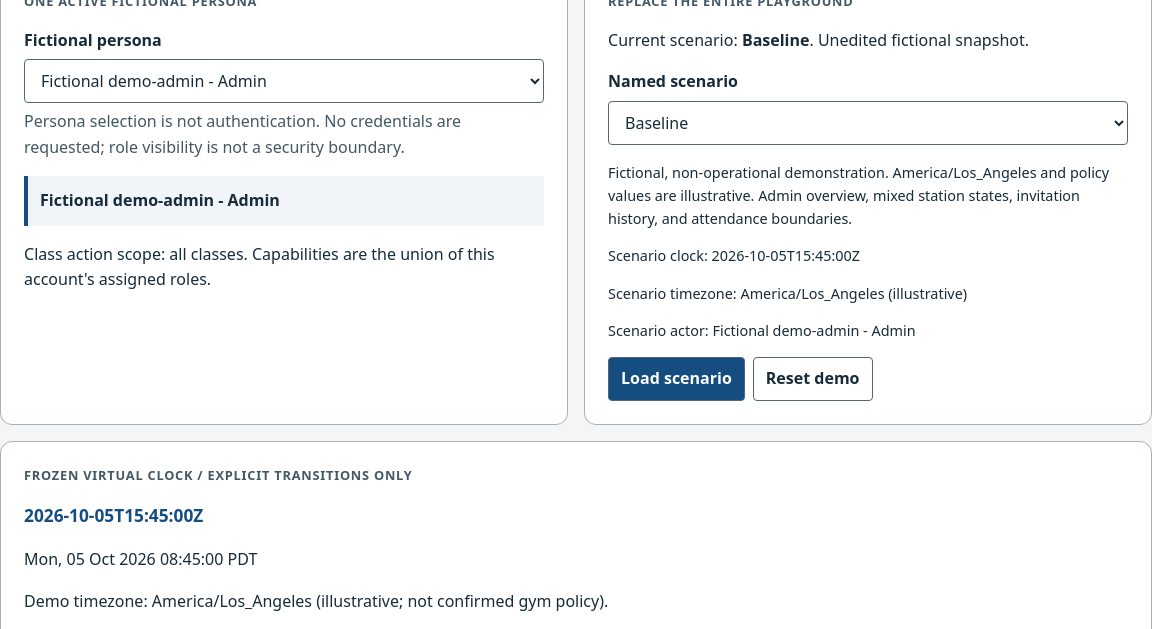
Test: composed demo shell › shows exact scenario catalog metadata and replaces edited state only after confirmation
Select "Invitation at member cap" in the dropdown labelled "Named scenario" at (868, 123), box [608,101,1128,145]
(page scrolled)
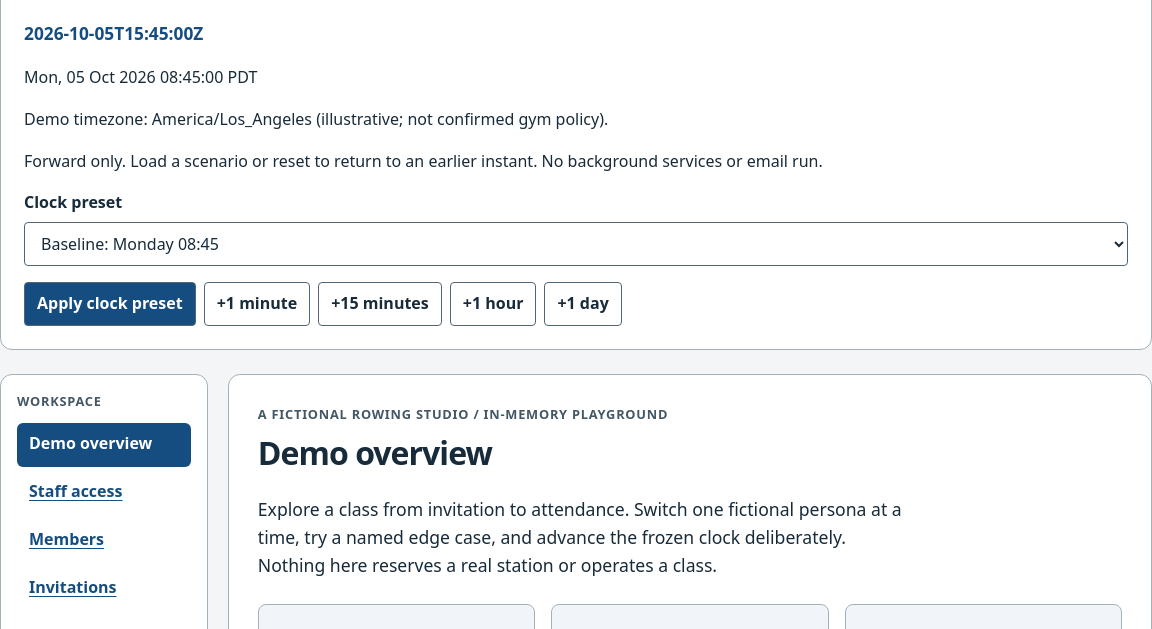
Click the button "+1 minute".
click(257, 304)  # box [204,282,310,326]
(page scrolled)
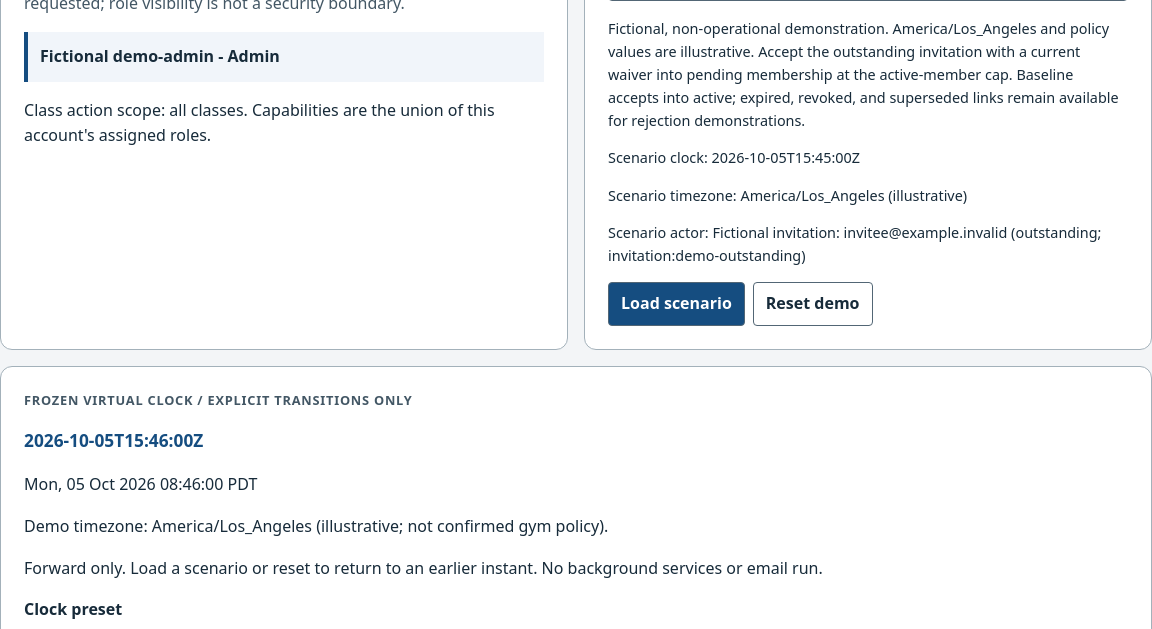
Click the button "Load scenario".
click(676, 304)  # box [608,282,745,326]
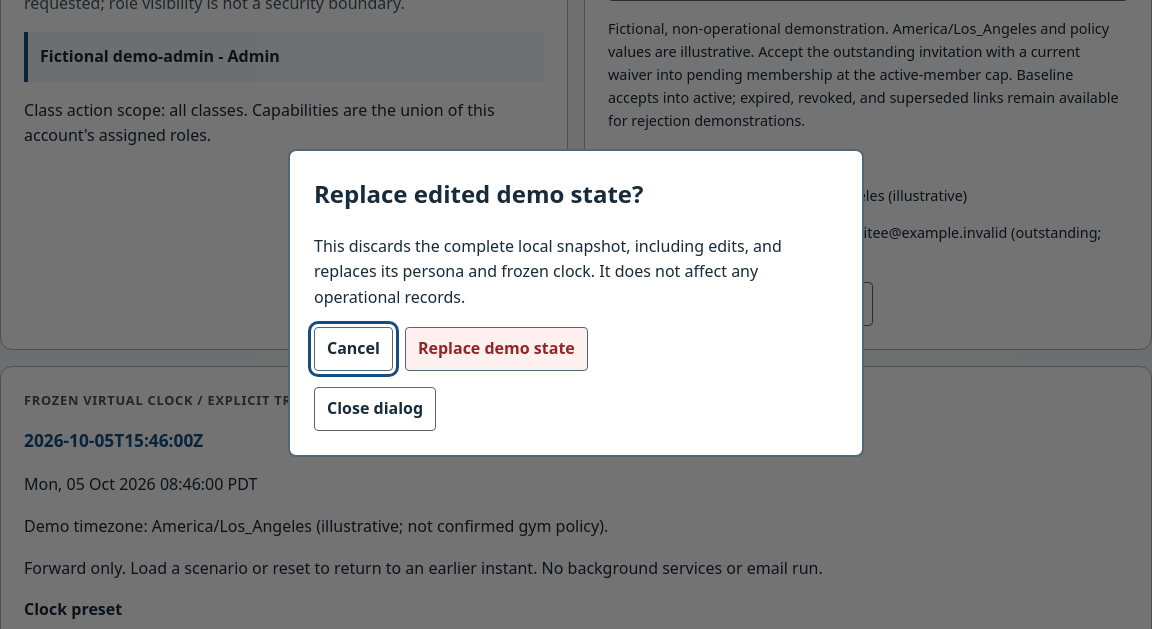
Now the dialog "Replace edited demo state?" is shown, box [288,150,864,457]
Click the button "Cancel".
click(353, 348)  # box [314,326,393,370]
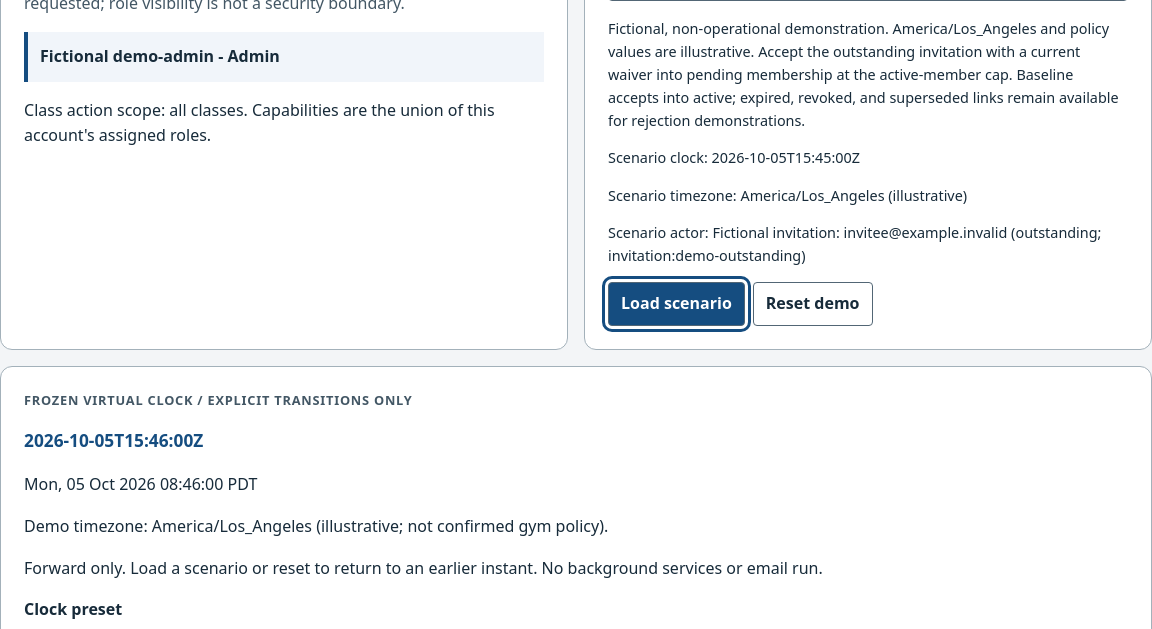
Click the button "Load scenario".
click(676, 304)  # box [608,282,745,326]
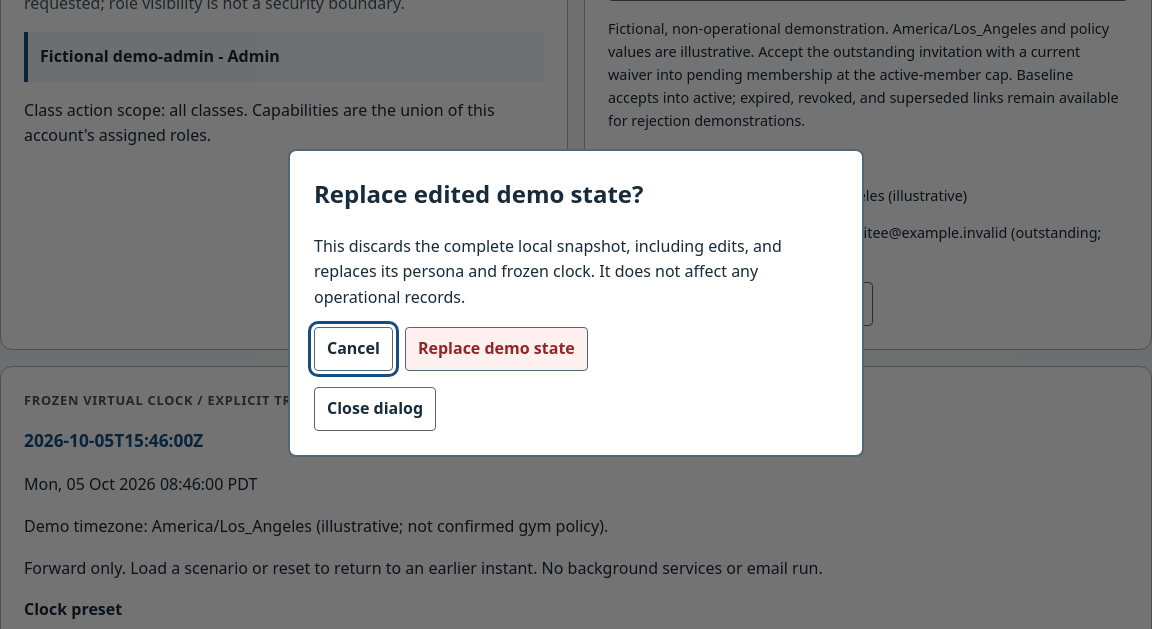
Click the button "Replace demo state".
click(496, 348)  # box [405,326,588,370]
(page scrolled)
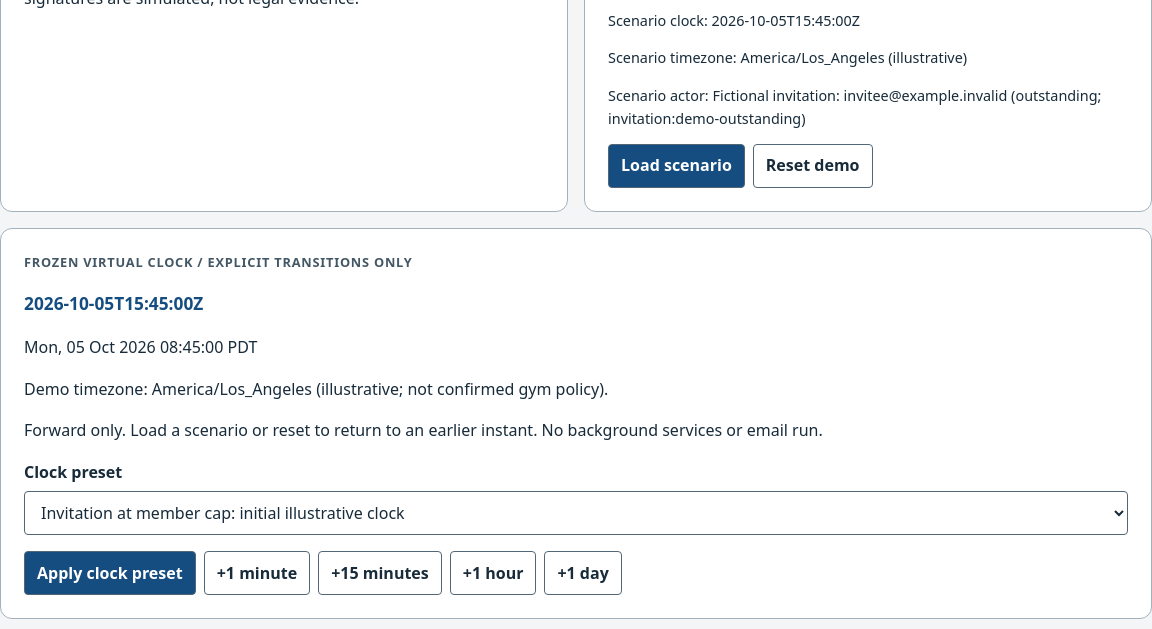
Now the element named "Frozen demo clock" reads "2026-10-05T15:45:00Z", box [24,292,203,315]
